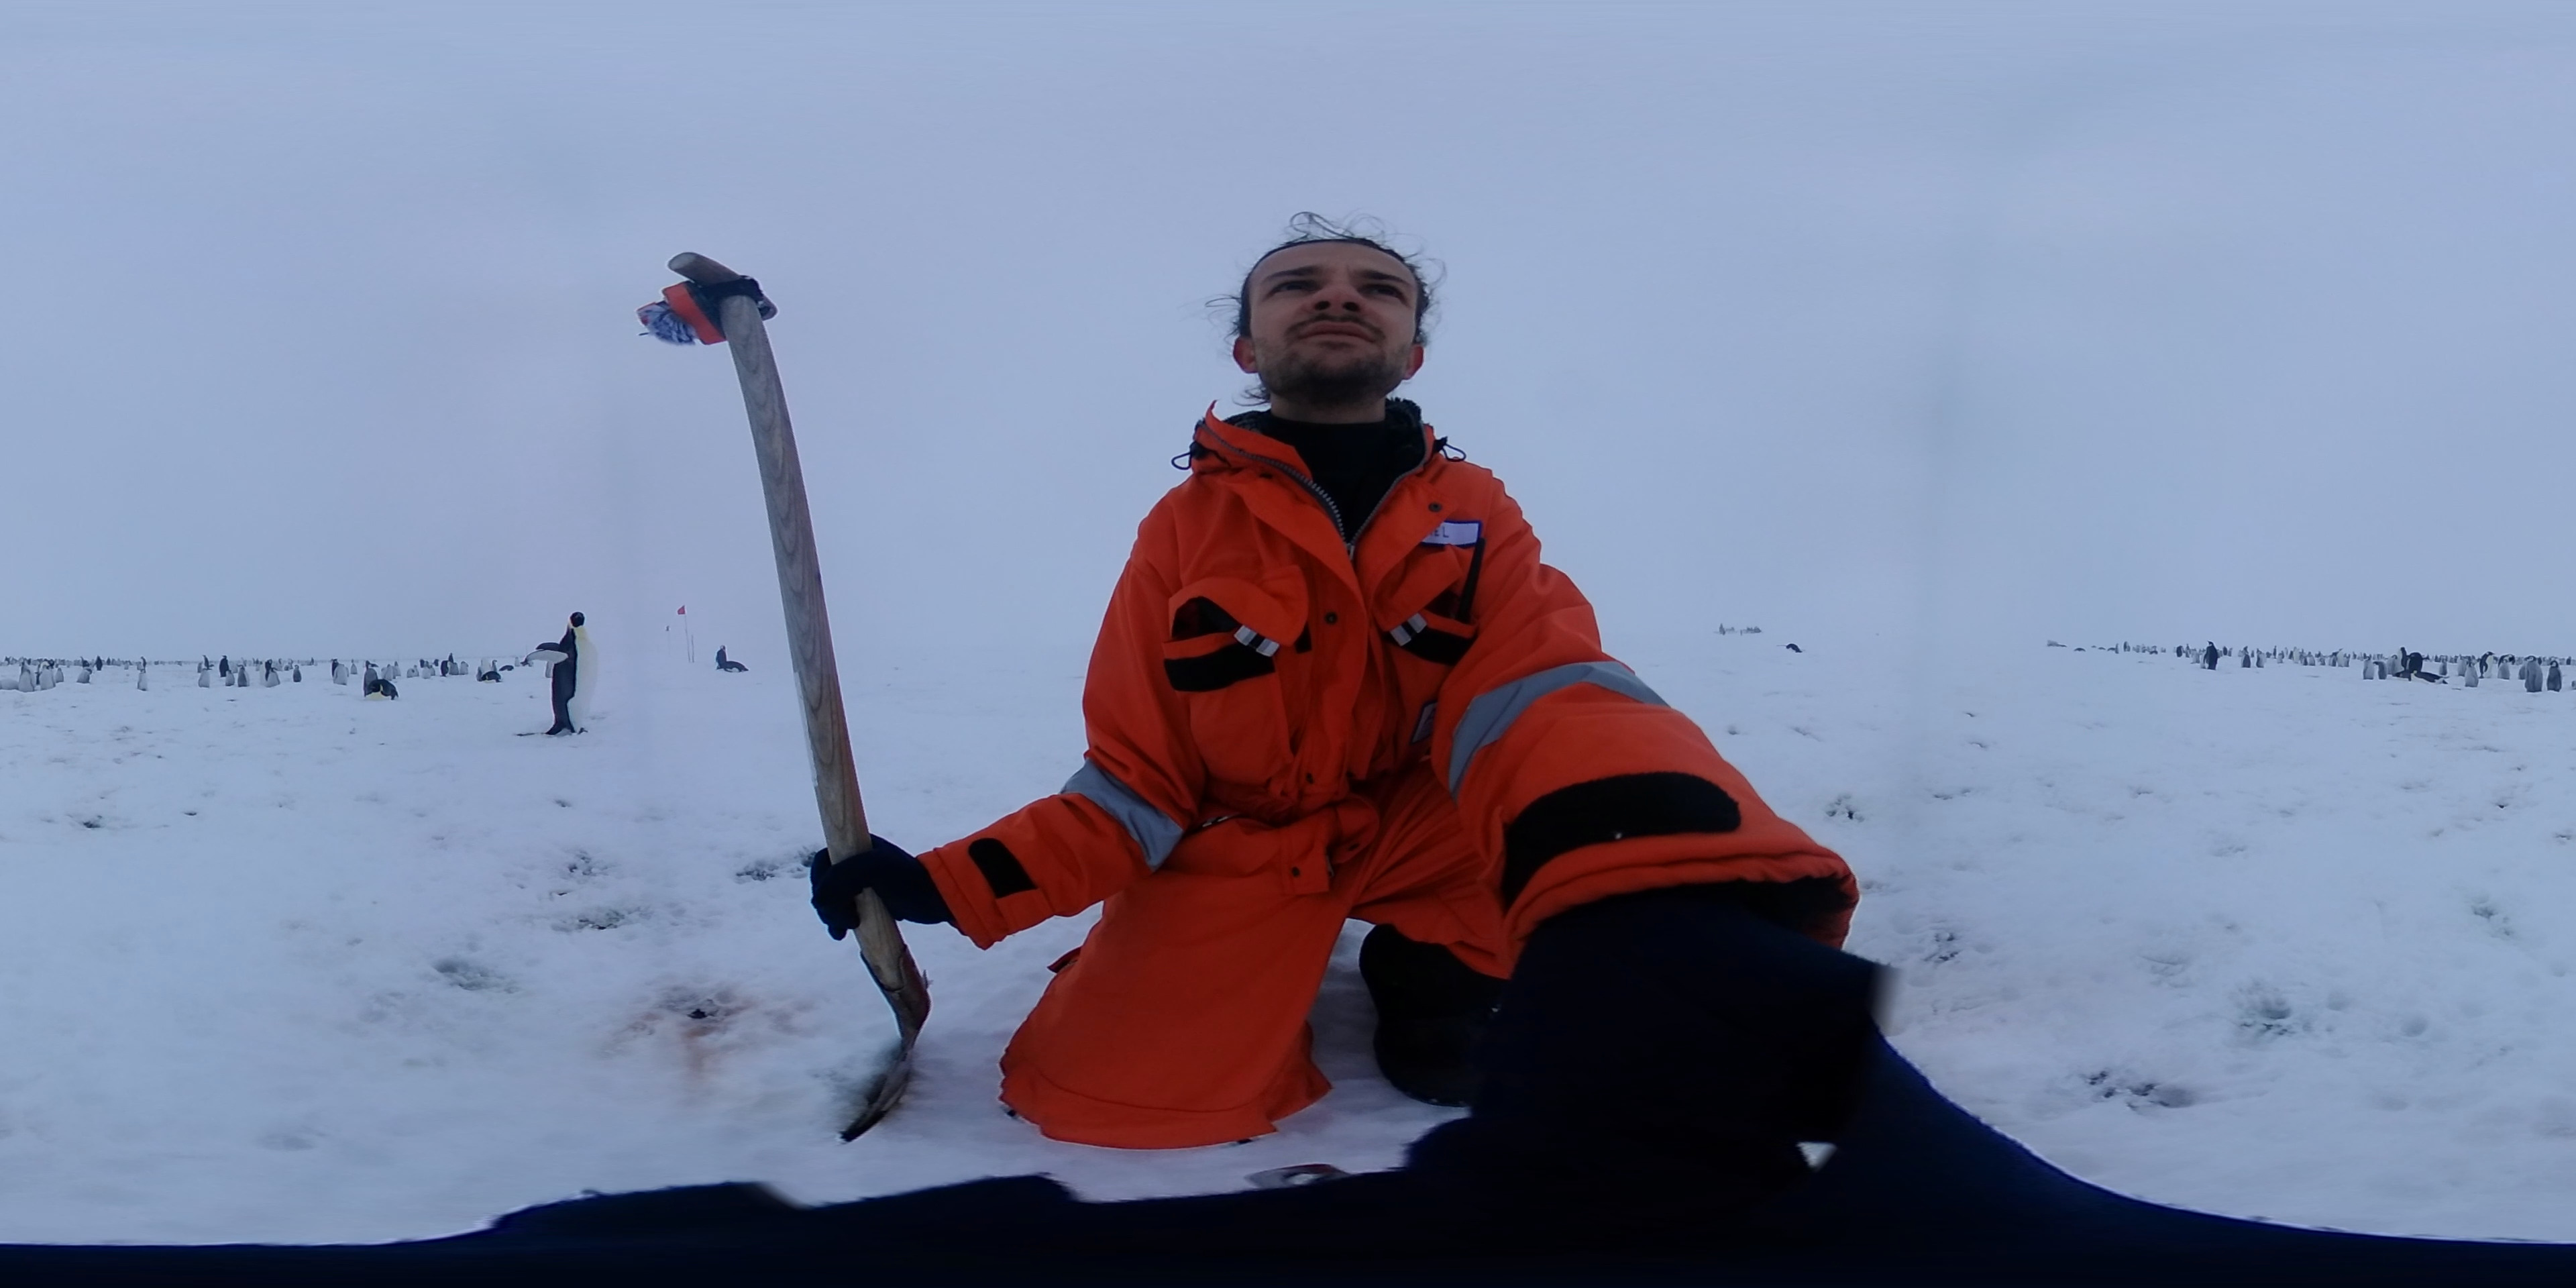adult_standing_penguin: (526, 611, 600, 739), (2479, 647, 2500, 682), (2201, 639, 2218, 674), (713, 644, 728, 672)
adult_toboggan_penguin: (363, 677, 399, 698), (713, 660, 749, 675), (2407, 669, 2443, 683), (480, 669, 503, 682), (1779, 641, 1802, 652)
juvenile_penguin: (2522, 655, 2545, 692), (2545, 659, 2564, 695), (16, 665, 38, 695), (39, 664, 61, 692), (329, 662, 352, 687), (360, 662, 379, 690), (2463, 659, 2481, 688), (194, 665, 214, 692), (133, 665, 149, 692), (2359, 657, 2376, 683), (238, 665, 253, 690), (2499, 659, 2514, 683), (74, 665, 92, 685), (2374, 660, 2389, 680), (268, 667, 281, 688), (292, 662, 302, 687)
researcher: (984, 209, 1861, 1168)
